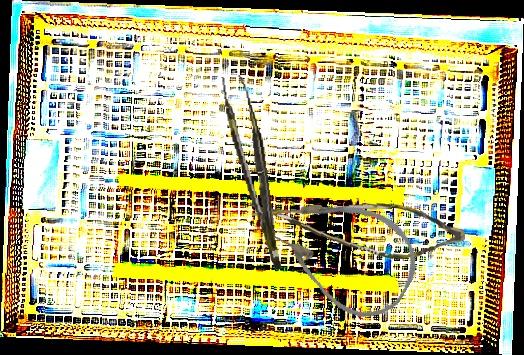Cannula: (259, 172, 434, 334)
Micro Scissor: (246, 187, 467, 270)
Tissue Forceps: (221, 72, 282, 274)
